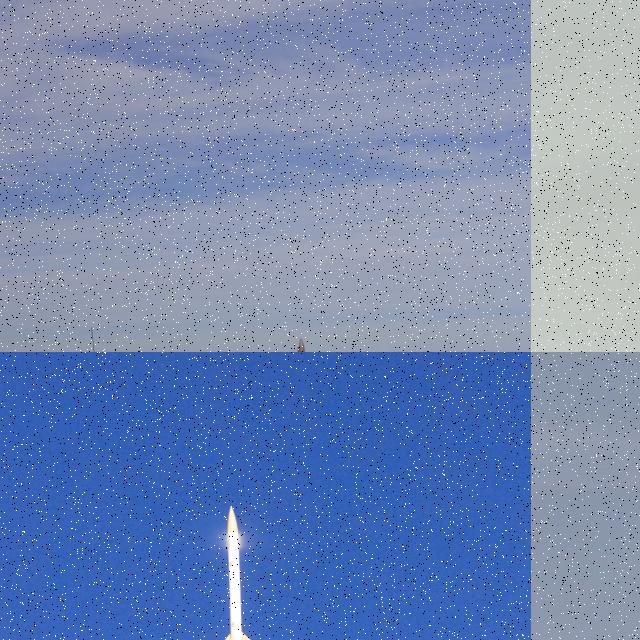Rocket: (213, 504, 259, 640), (292, 337, 311, 352)
